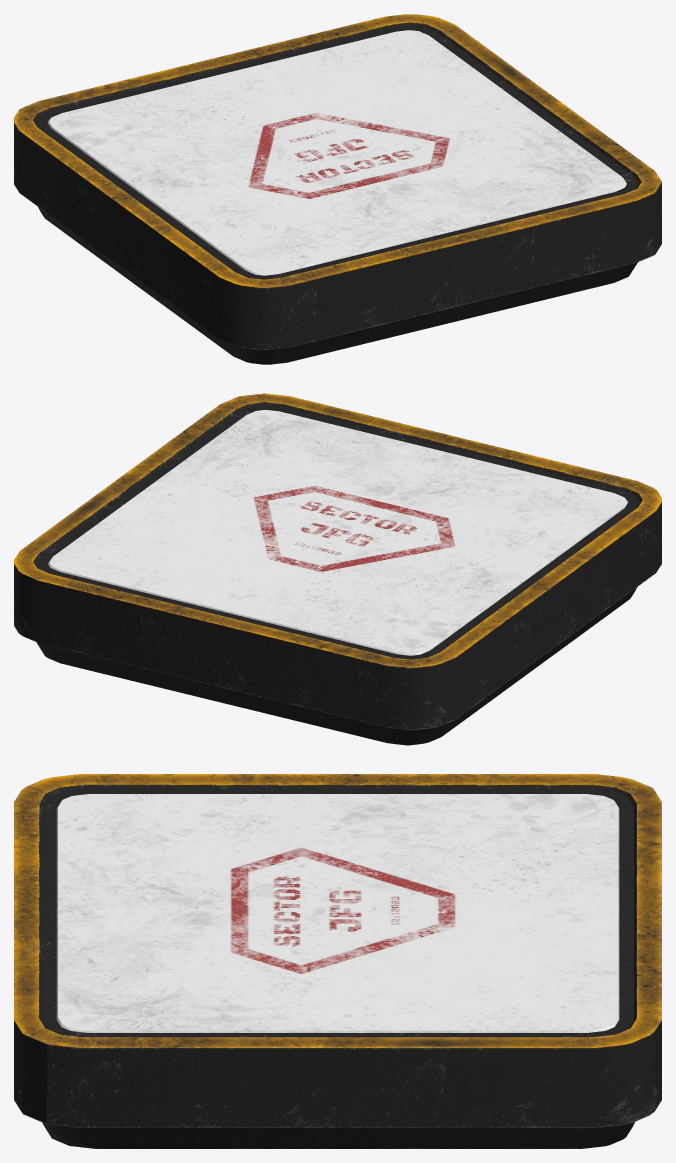
The model's file is start.glb.
The picture shows the model from 3 angles, top to bottom: view 1: azimuth 30°, elevation 25°; view 2: azimuth 150°, elevation 25°; view 3: azimuth 270°, elevation 25°; orthographic projection. The views are drawn at different scales.
Visible parts, largest first — view 1: SM_Ship_Platform_JFG_low; view 2: SM_Ship_Platform_JFG_low; view 3: SM_Ship_Platform_JFG_low.
Part boxes in pixels (box(x1,y1,x2,y2)): SM_Ship_Platform_JFG_low: box(14, 14, 661, 364); SM_Ship_Platform_JFG_low: box(14, 393, 661, 745); SM_Ship_Platform_JFG_low: box(14, 774, 661, 1148).
Bounding box in the file's own units: 6000 × 1166 × 6000.
Materials: 1 (1 with a texture image).
